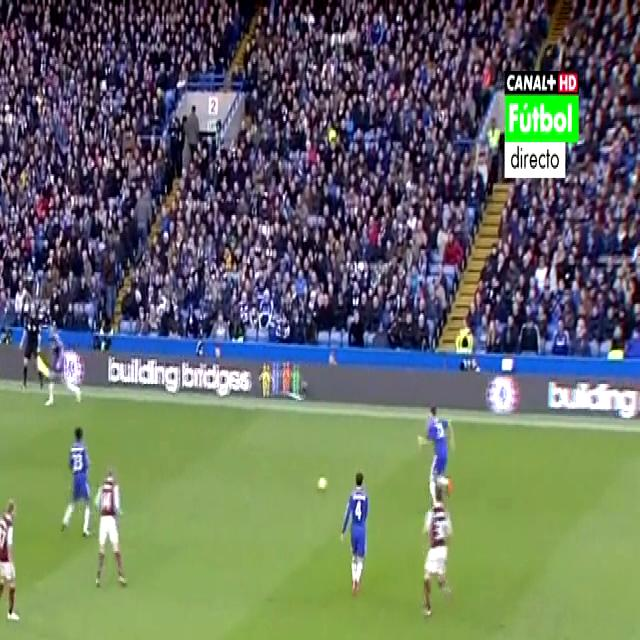ball: (316, 466, 330, 494)
referee: (19, 292, 64, 409)
soccer-player: (89, 453, 133, 598), (417, 479, 460, 622), (337, 462, 377, 599), (416, 395, 458, 509), (31, 310, 78, 411), (60, 415, 96, 543), (0, 489, 20, 629)
